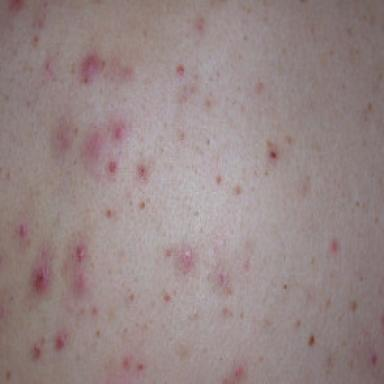acne: (80, 53, 104, 83), (84, 131, 103, 160), (34, 265, 49, 292), (180, 247, 193, 271), (58, 133, 71, 153), (75, 242, 86, 262), (5, 0, 24, 11), (74, 273, 85, 291), (114, 123, 125, 140), (56, 333, 67, 350), (234, 363, 244, 381), (19, 223, 28, 237), (330, 238, 338, 253), (123, 68, 133, 80), (138, 165, 146, 179), (33, 345, 41, 358), (176, 65, 185, 76), (122, 358, 130, 370), (109, 162, 116, 173), (371, 353, 377, 365), (92, 306, 98, 315)
